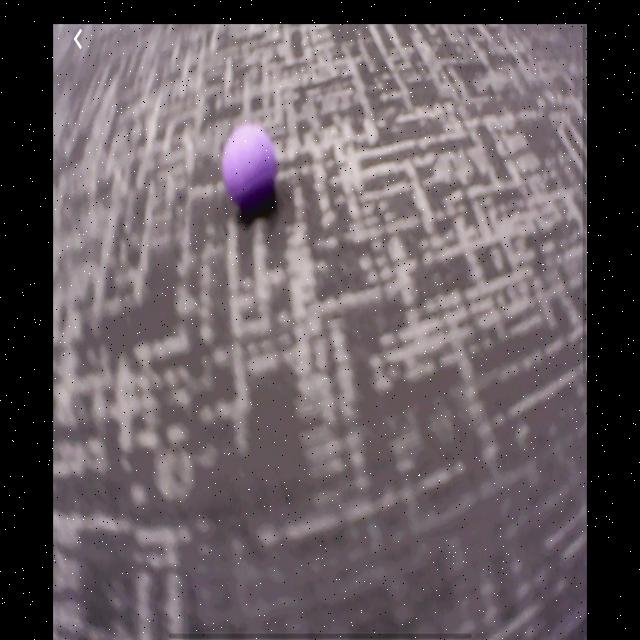ball: (222, 126, 277, 206)
